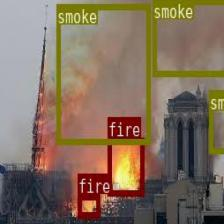fire: (107, 136, 143, 195), (77, 194, 99, 216)
smoke: (56, 3, 150, 143), (152, 0, 224, 75), (208, 89, 224, 152)
